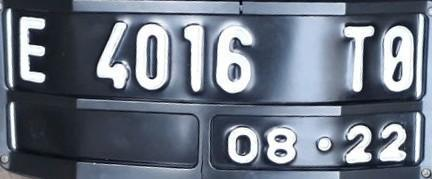clone-license-plate: (3, 5, 430, 171)
